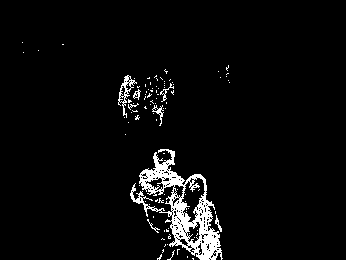person: (128, 148, 184, 237), (169, 174, 223, 260), (144, 69, 177, 127), (117, 73, 142, 124)
